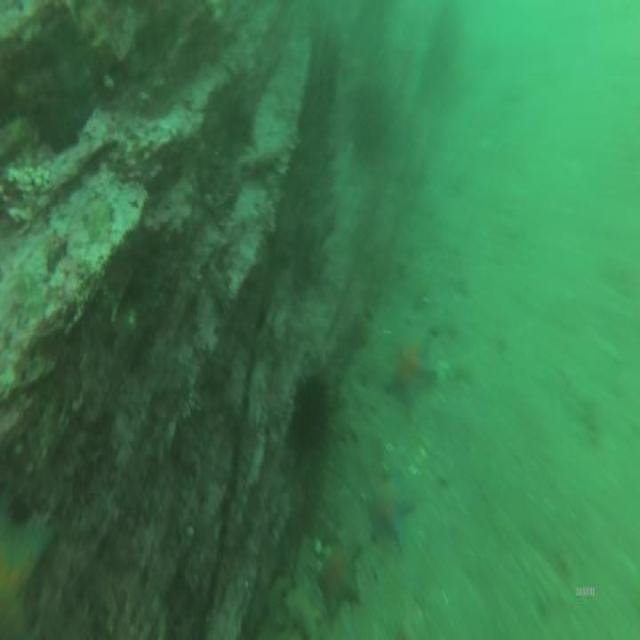echinus: (295, 378, 328, 442)
starfish: (1, 499, 48, 640), (365, 476, 408, 546), (387, 348, 430, 409), (318, 548, 358, 606)
